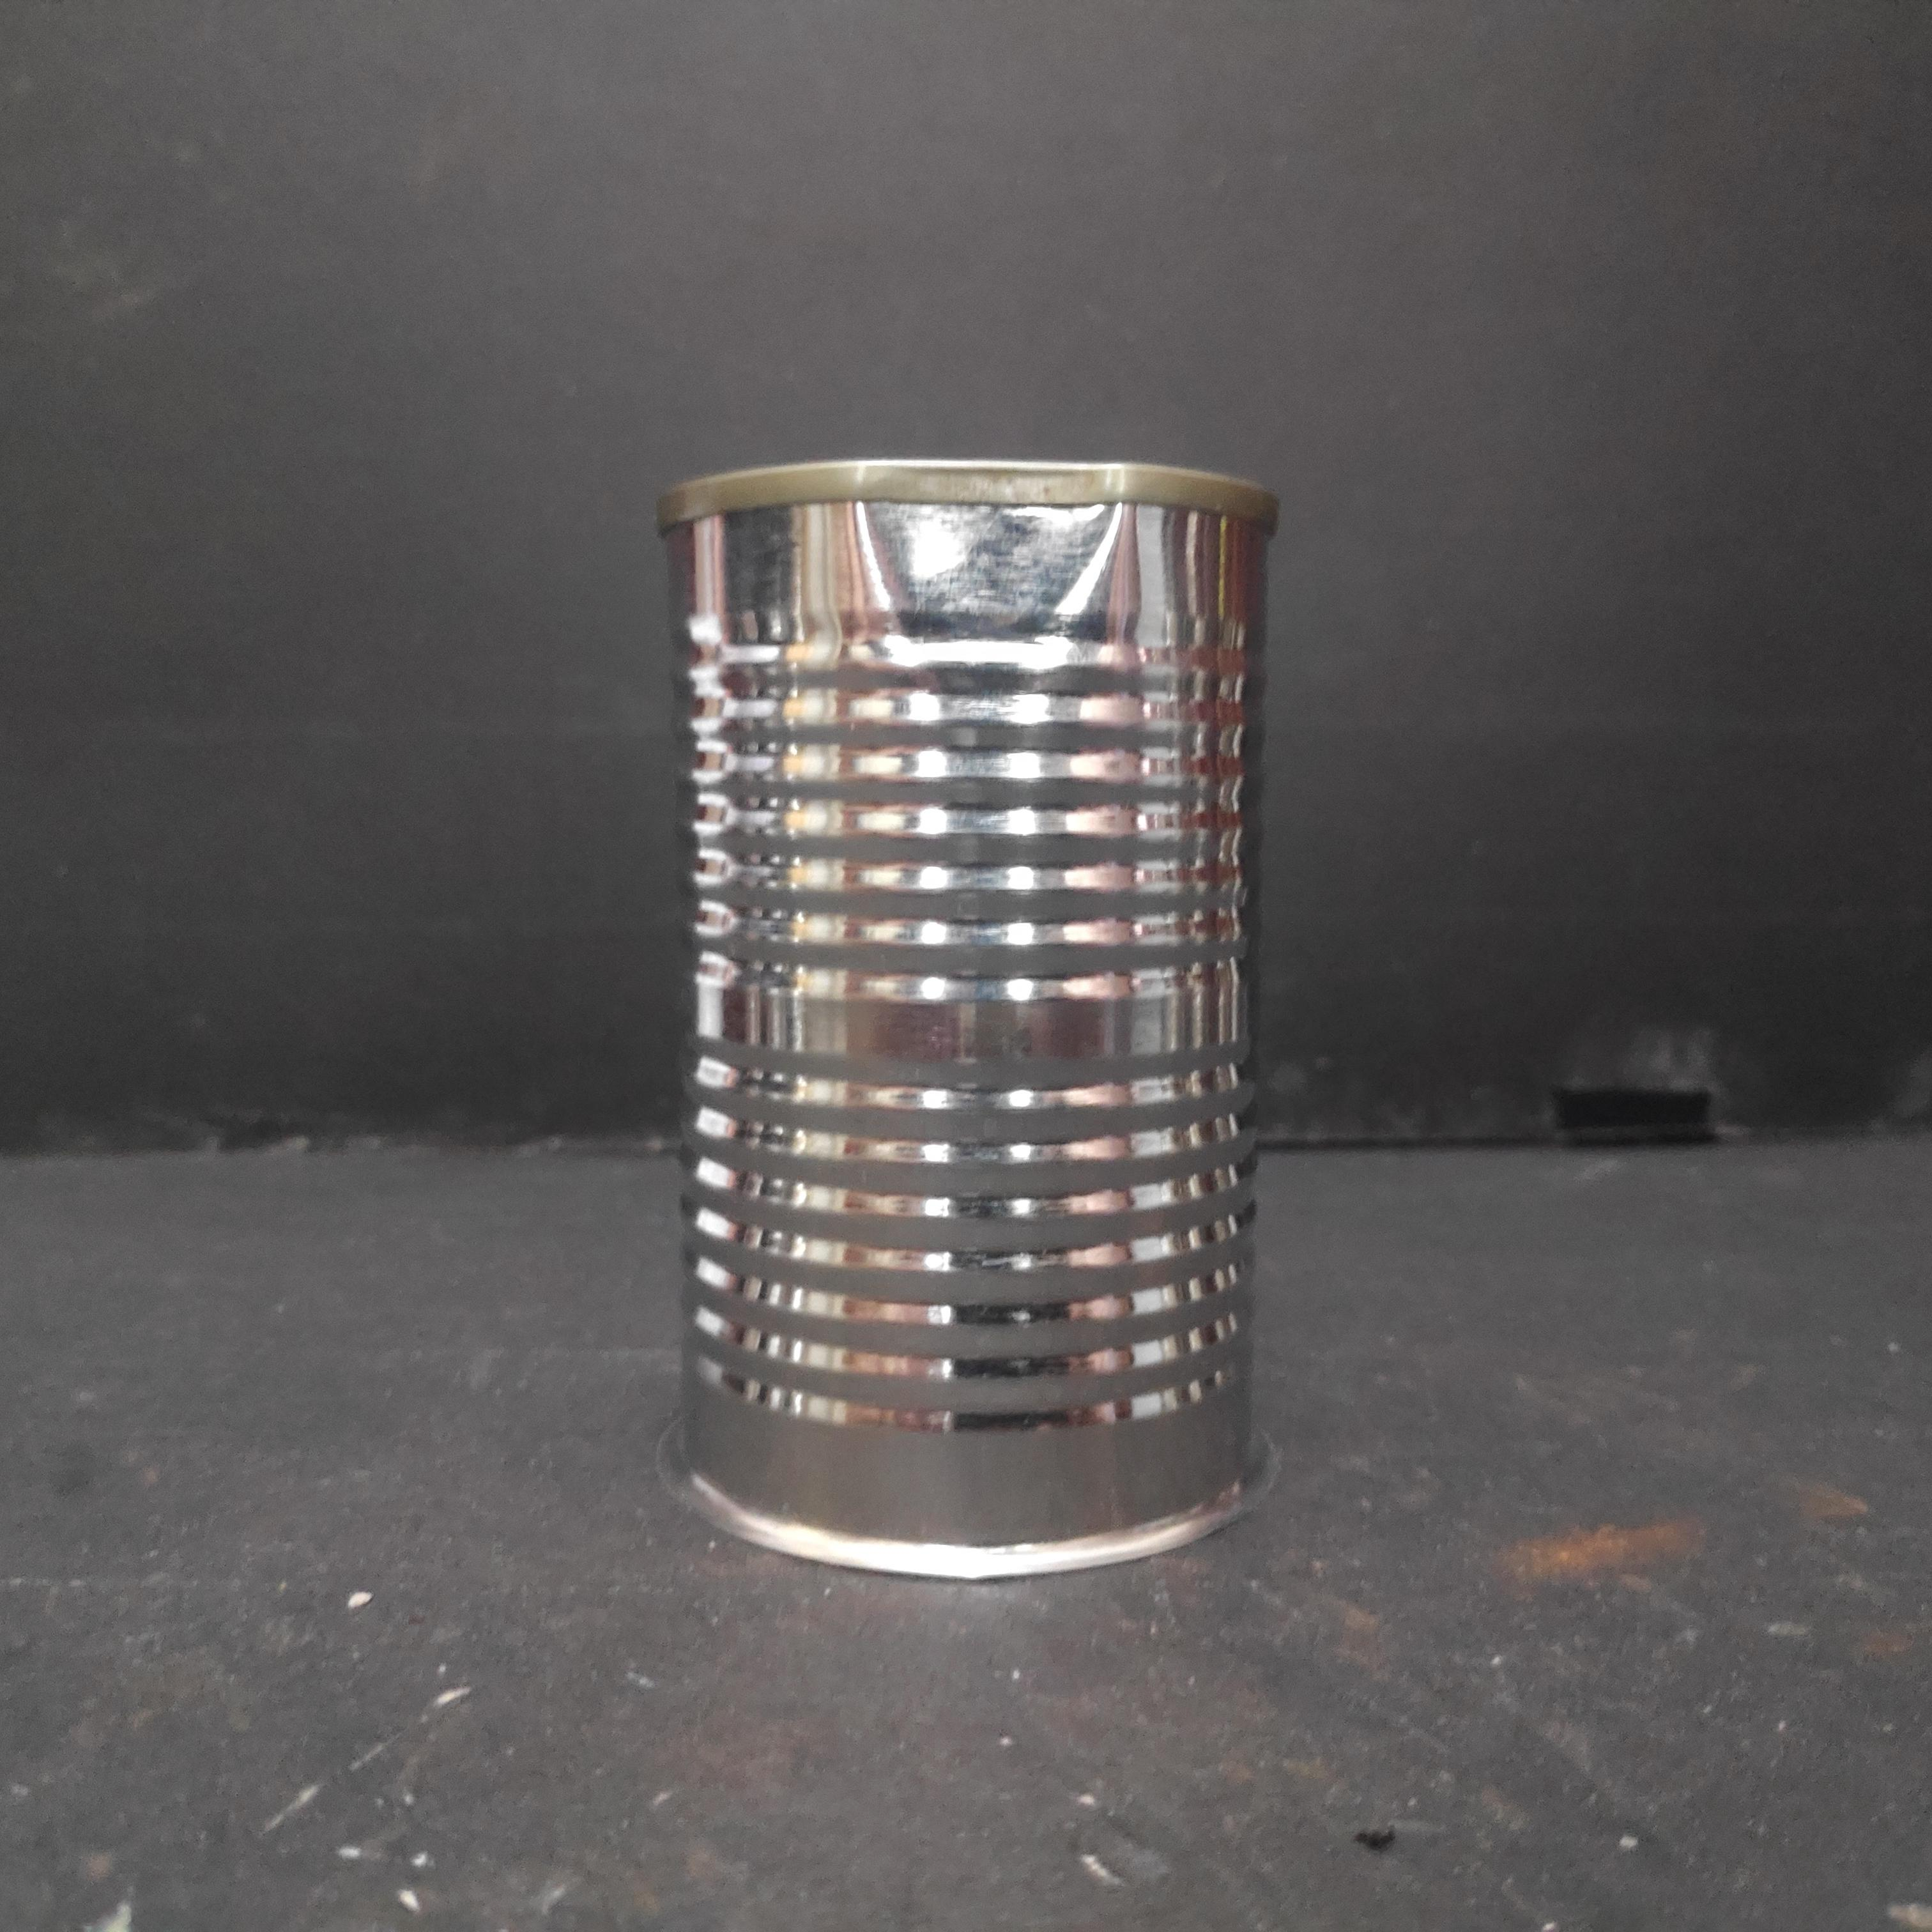Minor Defect: (644, 451, 1288, 1601)
